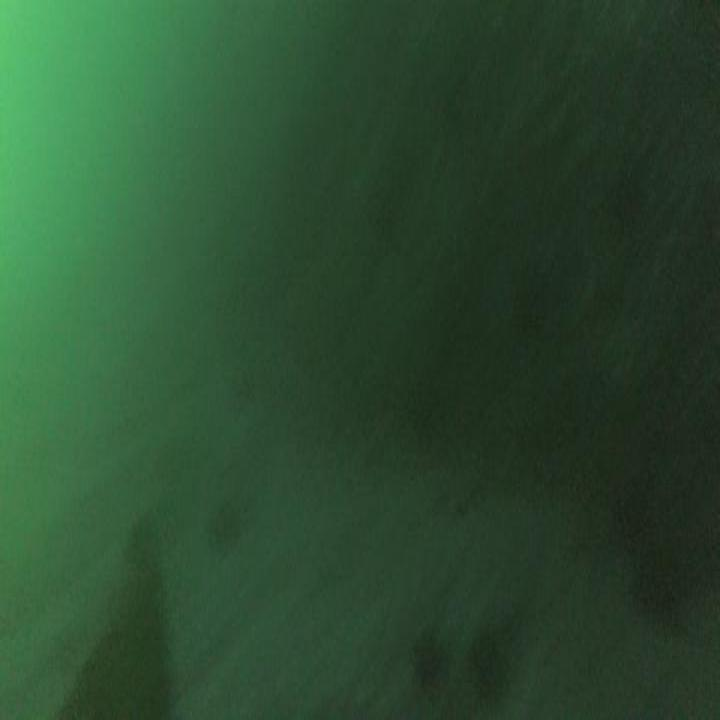echinus: (460, 618, 509, 714), (404, 617, 447, 697), (205, 491, 241, 558)
